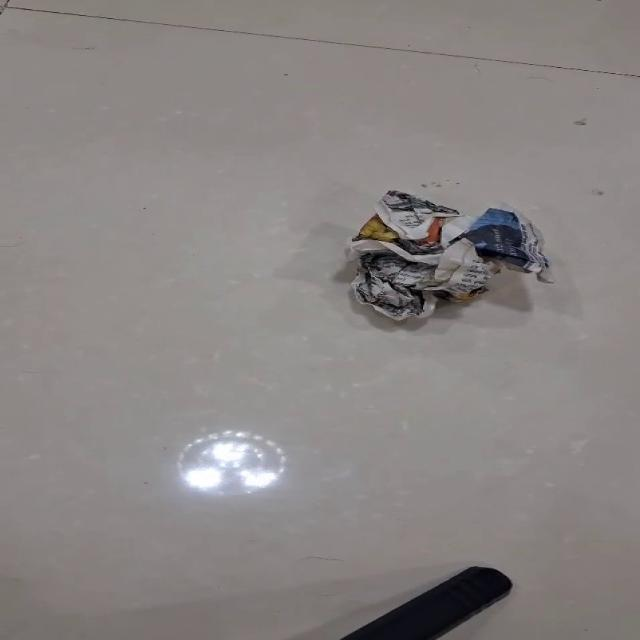paper: (344, 189, 554, 321)
